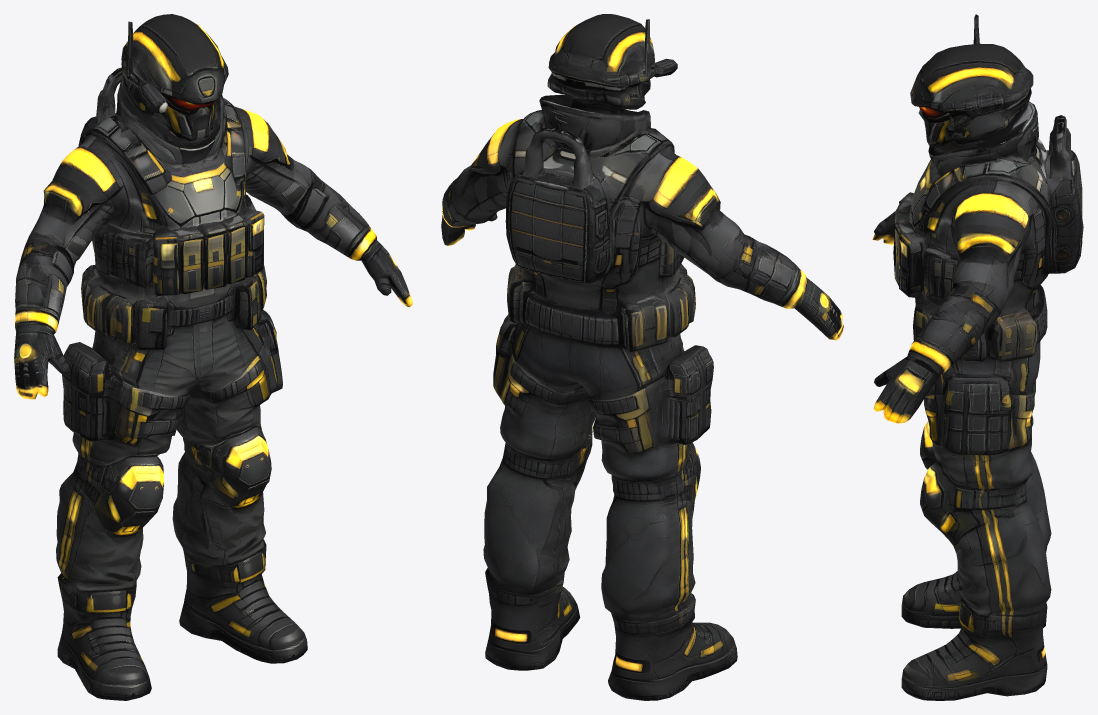
File: obsidianSentinelPlayer.glb
3 renders of one model, left to right at view 1: azimuth 30°, elevation 25°; view 2: azimuth 150°, elevation 25°; view 3: azimuth 270°, elevation 25°, orthographic. The views are drawn at different scales.
Visible parts, largest first — view 1: Mesh_0; view 2: Mesh_0; view 3: Mesh_0.
Part boxes in pixels (left/top/right/bottom): Mesh_0: left=14, top=14, right=412, bottom=700; Mesh_0: left=441, top=14, right=843, bottom=700; Mesh_0: left=872, top=14, right=1083, bottom=700.
Bounding box in the file's own units: 1.13 × 1.8 × 0.5581.
Materials: 1 (1 with a texture image).
